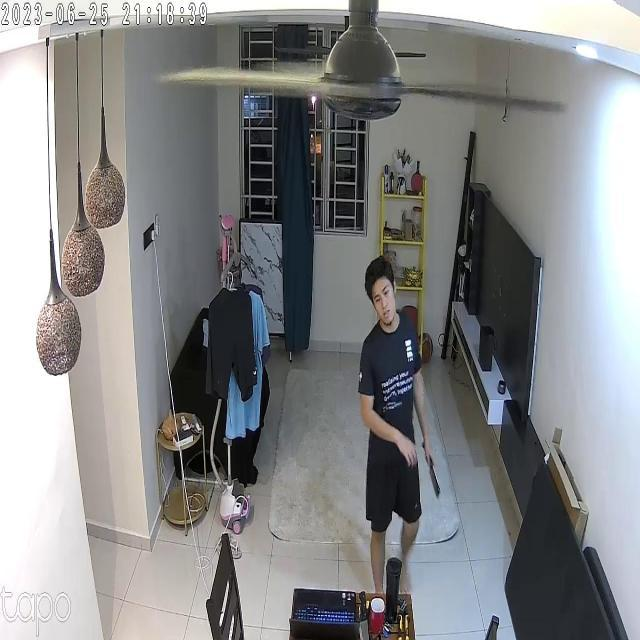Knife: (418, 441, 449, 504)
